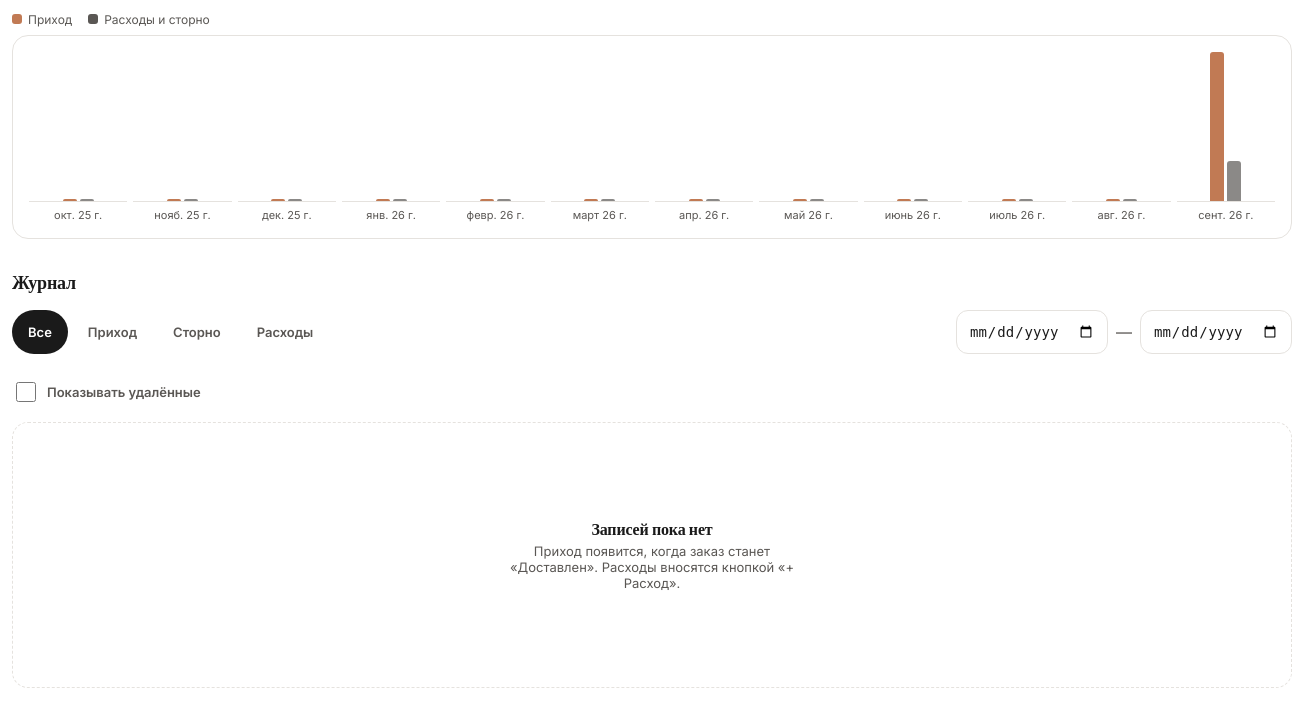
Scenario: deleted expenses in the journal › count as a journal filter: with the switch on and nothing found, the empty state mentions filters
(page scrolled)
Expected: the heading "Записей пока нет" is shown, [592,519,713,539]
Click the checkbox labelled "Показывать удалённые".
click(26, 392)  # box [16,382,36,402]
(page scrolled)
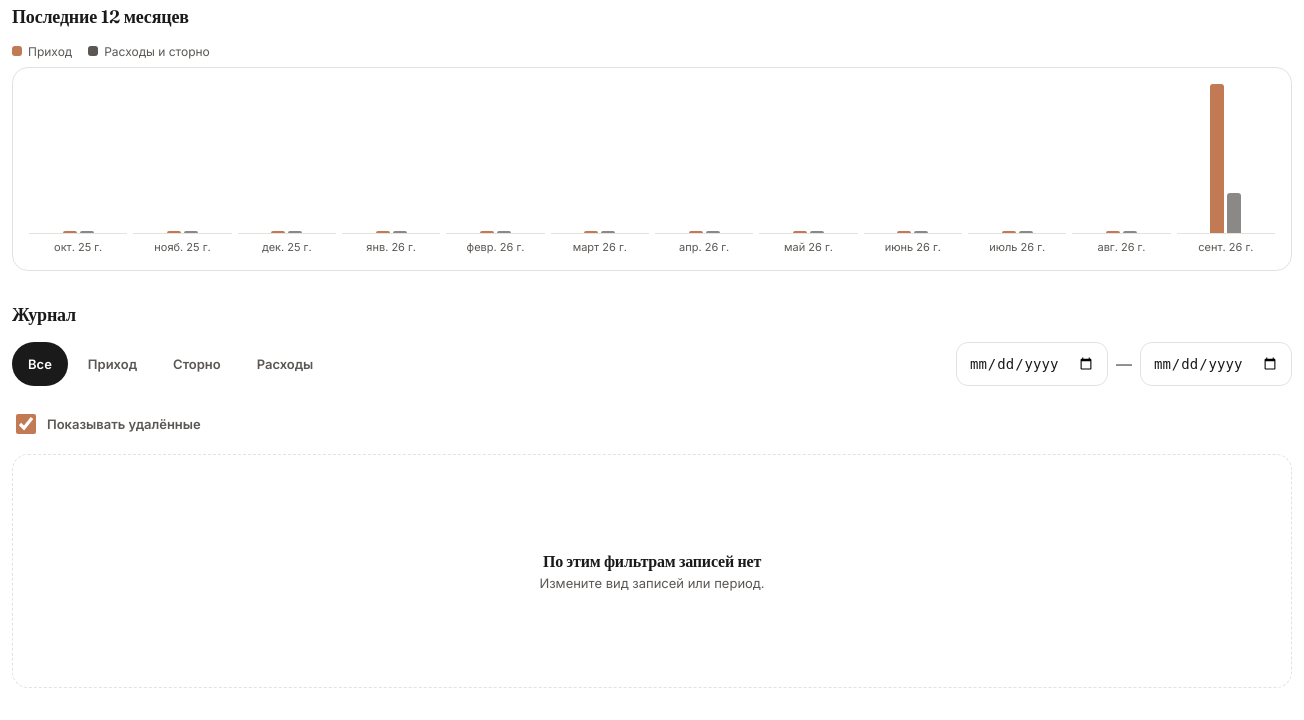
Result: the heading "По этим фильтрам записей нет" is shown at [543,551,761,571]
